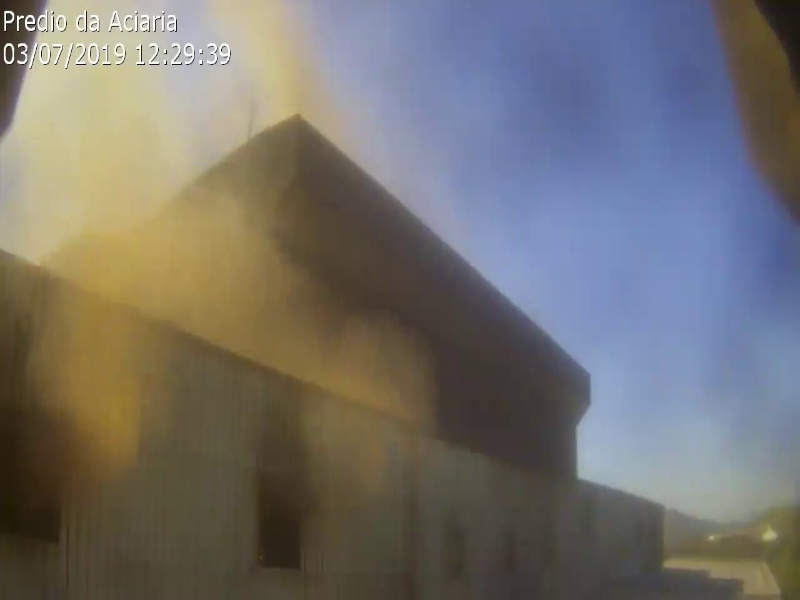Pessimo: (12, 51, 478, 559)
